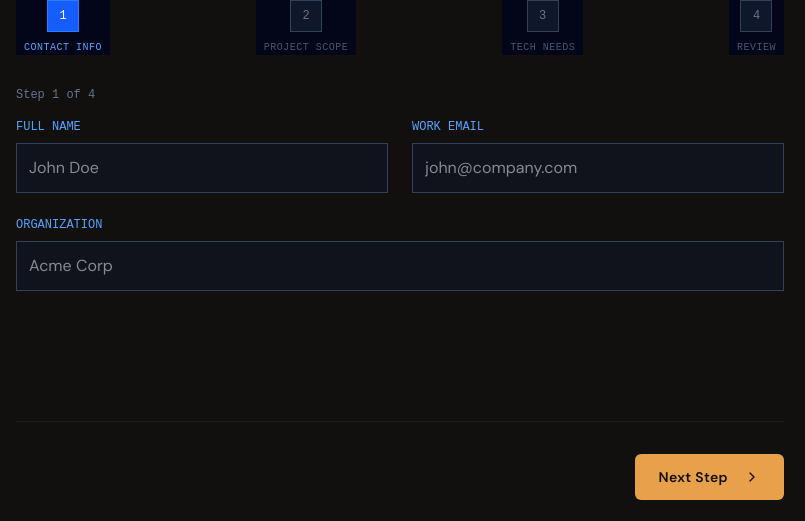
it: MultiStepForm › advances to step 1 when required fields are filled and Next is clicked
Step 1. Type "Jane Doe" into the field with placeholder "John Doe" → (202,168), box [16,143,388,193]
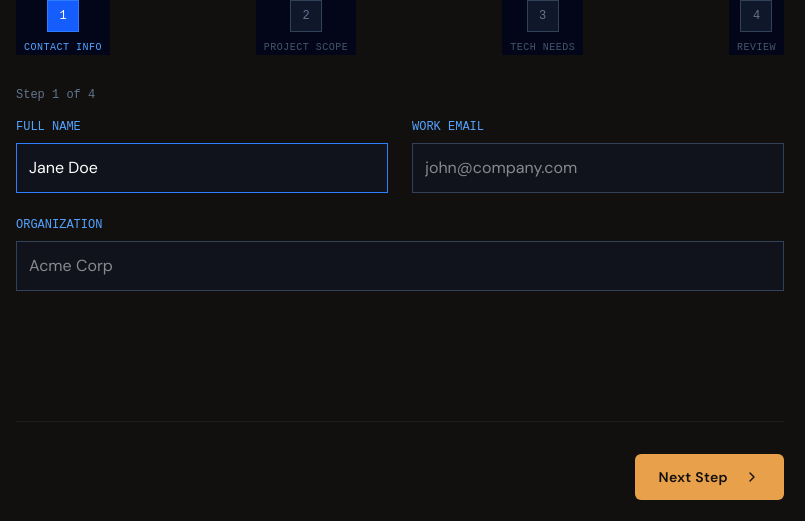
Step 2. Type "jane@company.com" into the field with placeholder "john@company.com" → (598,168), box [412,143,784,193]
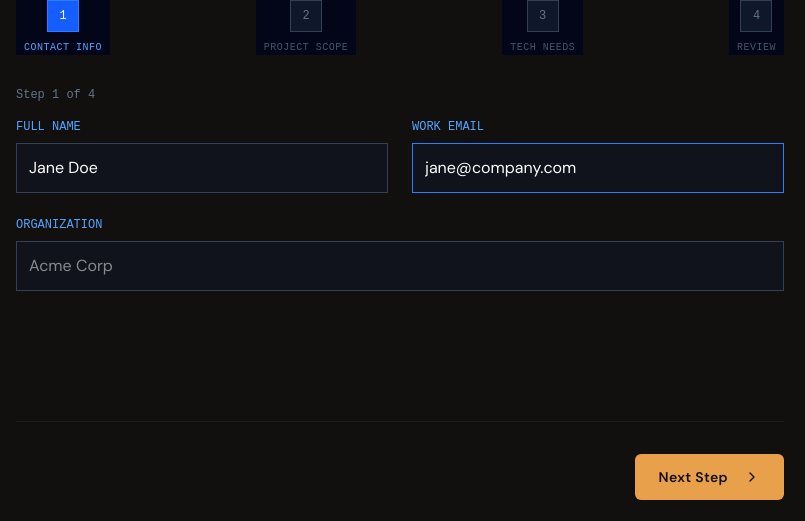
Step 3. Click the button "Next Step" → (709,477), box [634,454,784,500]
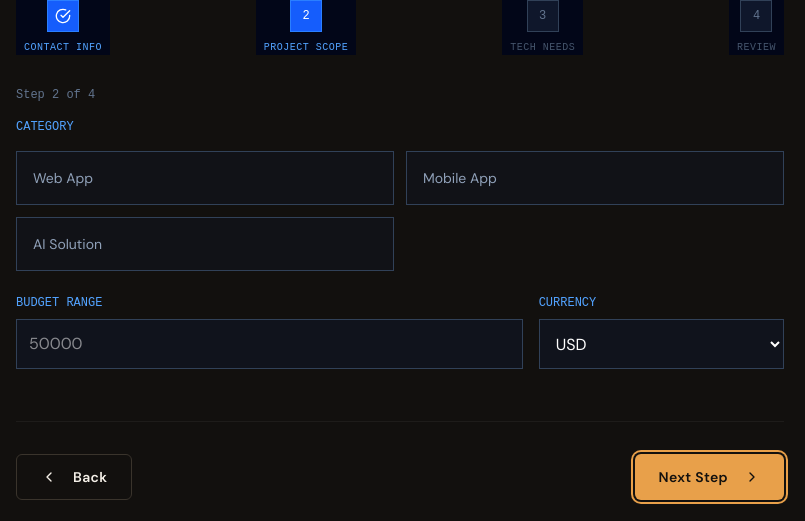
Now the text "Category" is shown, box [16,120,74,134]
